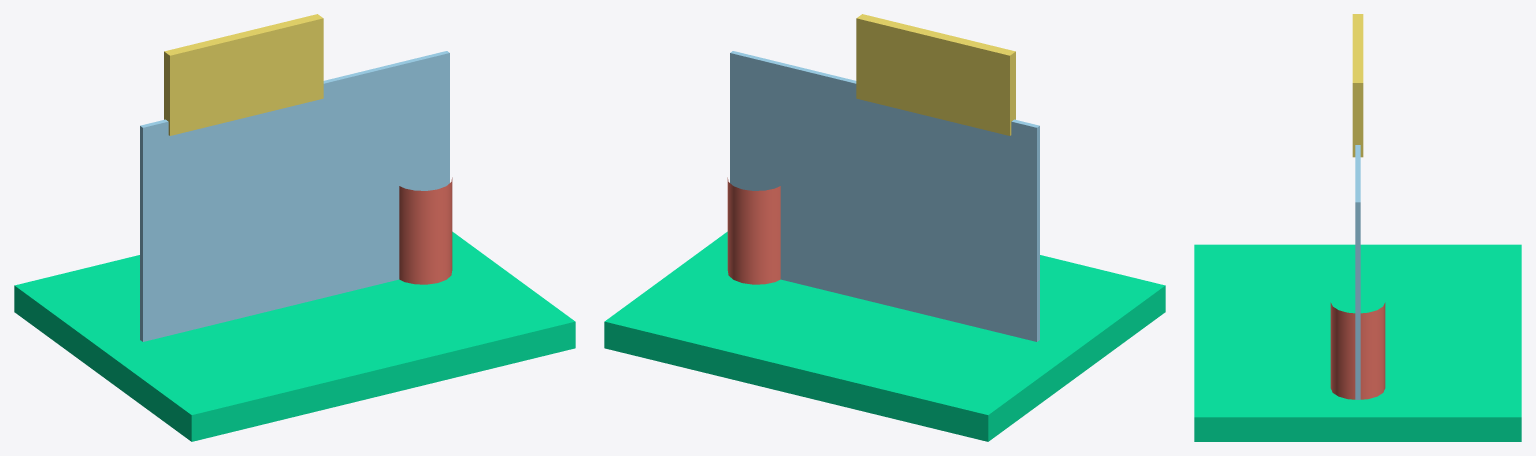
Rendered from unit_hydrograph_flood_routing_rational.glb.
3 views of the same model, side by side, from view 1: azimuth 30°, elevation 25°; view 2: azimuth 150°, elevation 25°; view 3: azimuth 270°, elevation 25° (orthographic). The views are drawn at different scales.
Visible parts, largest first — view 1: UnitHydrographBellCurvedSurface, WatershedTopographicCatchmentBasin, EffectiveRainfallHyetographColumns, PeakDischargeGaugeStationSpillway; view 2: UnitHydrographBellCurvedSurface, WatershedTopographicCatchmentBasin, EffectiveRainfallHyetographColumns, PeakDischargeGaugeStationSpillway; view 3: WatershedTopographicCatchmentBasin, PeakDischargeGaugeStationSpillway, EffectiveRainfallHyetographColumns, UnitHydrographBellCurvedSurface.
Boxes of the visible parts, left/top/right/bottom form: UnitHydrographBellCurvedSurface: left=140, top=51, right=449, bottom=341; WatershedTopographicCatchmentBasin: left=14, top=231, right=575, bottom=441; EffectiveRainfallHyetographColumns: left=164, top=14, right=323, bottom=135; PeakDischargeGaugeStationSpillway: left=399, top=177, right=452, bottom=284; UnitHydrographBellCurvedSurface: left=730, top=51, right=1039, bottom=341; WatershedTopographicCatchmentBasin: left=604, top=231, right=1165, bottom=441; EffectiveRainfallHyetographColumns: left=856, top=14, right=1015, bottom=135; PeakDischargeGaugeStationSpillway: left=727, top=177, right=780, bottom=284; WatershedTopographicCatchmentBasin: left=1194, top=244, right=1521, bottom=441; PeakDischargeGaugeStationSpillway: left=1330, top=302, right=1385, bottom=399; EffectiveRainfallHyetographColumns: left=1352, top=14, right=1363, bottom=157; UnitHydrographBellCurvedSurface: left=1355, top=145, right=1360, bottom=399.
Size of the model in its own units: 1.5 by 1.15 by 1.2.
